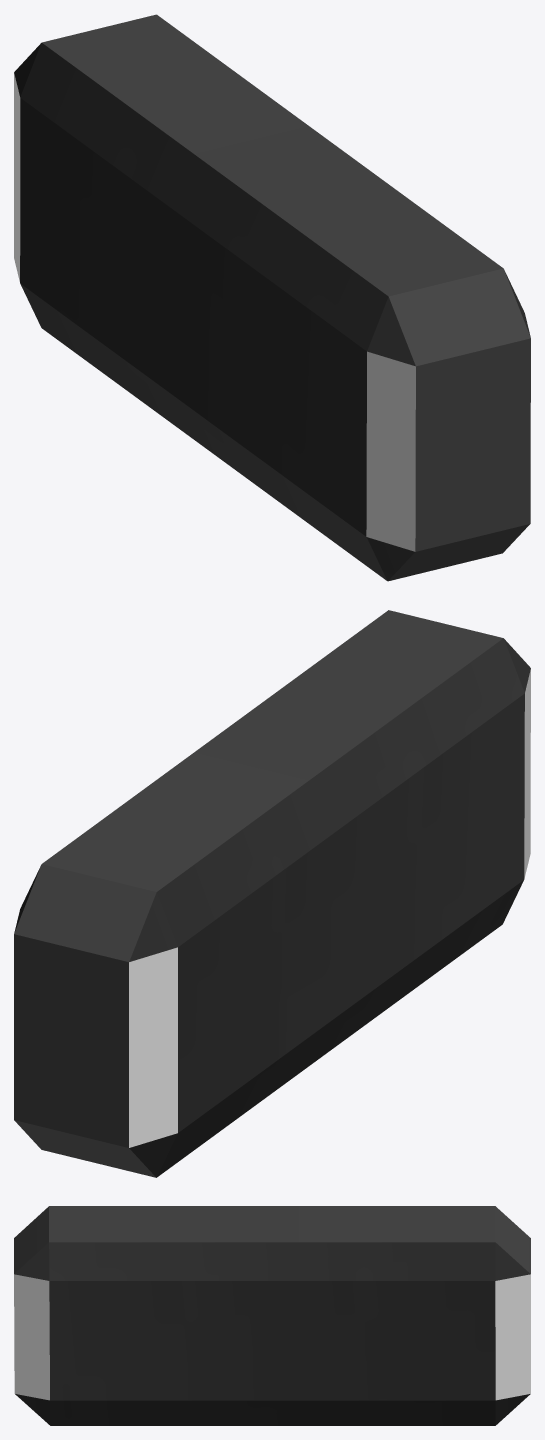
Rendered from SMGMag_mesh.fbx.
3 renders of one model, top to bottom at view 1: azimuth 30°, elevation 25°; view 2: azimuth 150°, elevation 25°; view 3: azimuth 270°, elevation 25°, orthographic. The views are drawn at different scales.
Parts seen in each view (by area): view 1: SMGMag_mesh; view 2: SMGMag_mesh; view 3: SMGMag_mesh.
Boxes of the visible parts, <box> form: SMGMag_mesh: <box>14,14,530,581</box>; SMGMag_mesh: <box>14,610,530,1177</box>; SMGMag_mesh: <box>14,1206,530,1425</box>.
Bounding box in the file's own units: 2.25 × 3.88 × 9.9.
